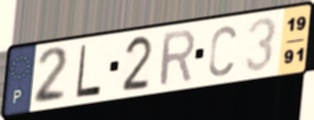2: (33, 45, 72, 110), (120, 33, 155, 96)
3: (244, 14, 280, 76)
C: (206, 23, 239, 79)
L: (74, 42, 103, 100)
R: (158, 27, 197, 90)
